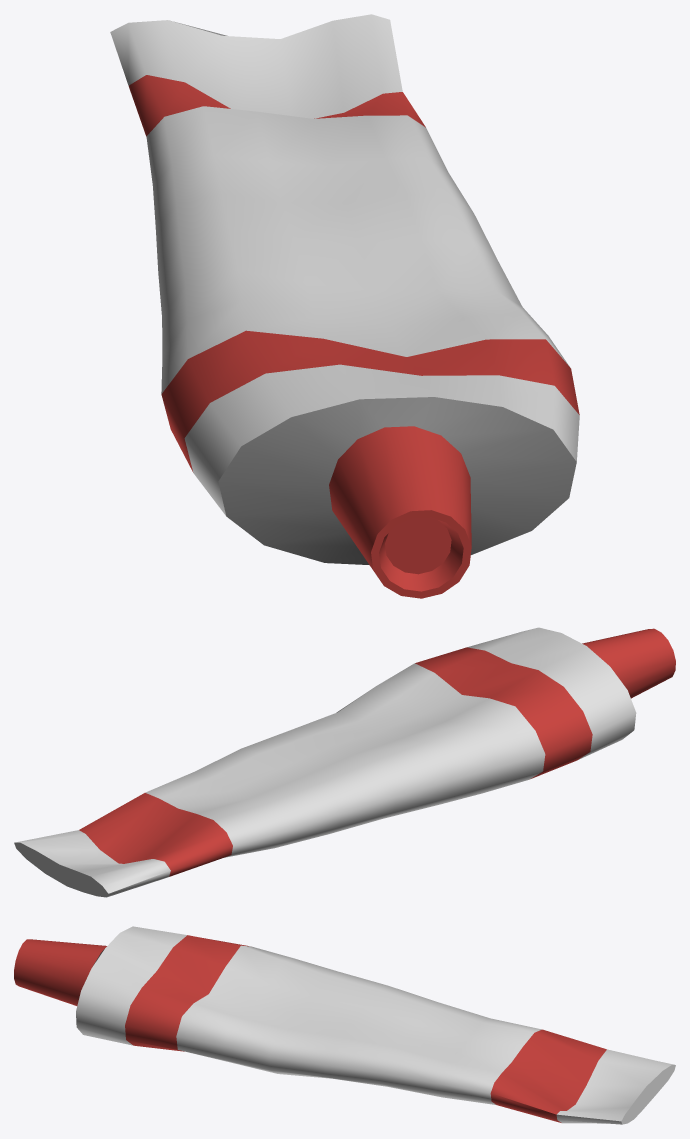
Rendered from paintTube2.fbx.
3 renders of one model, top to bottom at view 1: azimuth 30°, elevation 25°; view 2: azimuth 150°, elevation 25°; view 3: azimuth 270°, elevation 25°, orthographic. The views are drawn at different scales.
Parts seen in each view (by area): view 1: Circle.009; view 2: Circle.009; view 3: Circle.009.
Part boxes in pixels (box(x1,y1,x2,y2)): Circle.009: box(110, 14, 579, 598); Circle.009: box(14, 627, 675, 897); Circle.009: box(14, 926, 675, 1124).
Bounding box in the file's own units: 2.6 × 0.6584 × 4.6.
